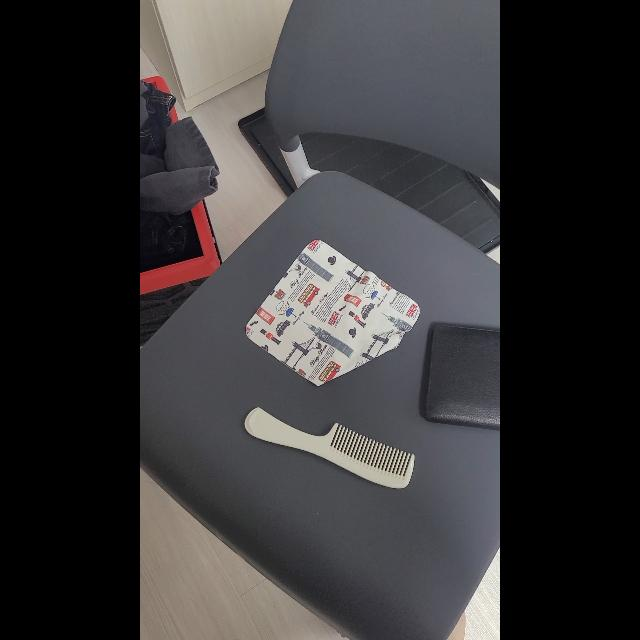COMB: (244, 408, 414, 488)
Glasses cleaning cloth: (245, 240, 420, 386)
WALLET: (426, 322, 500, 430)
